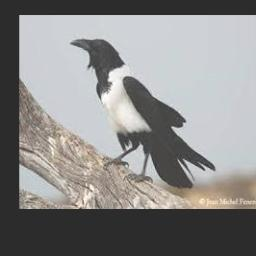Crow: (69, 38, 217, 190)
